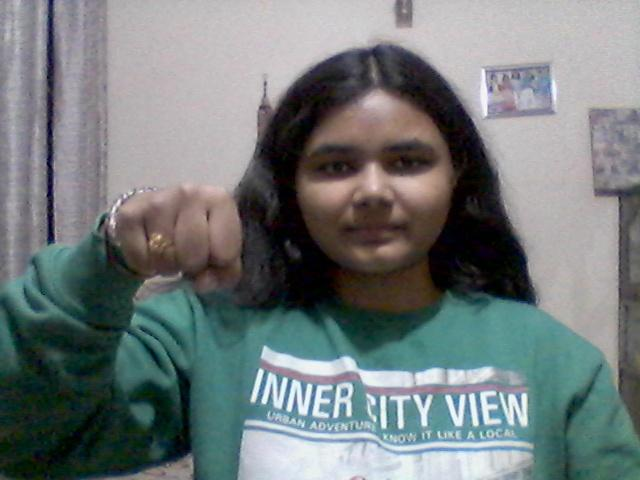yes: (110, 182, 244, 290)
